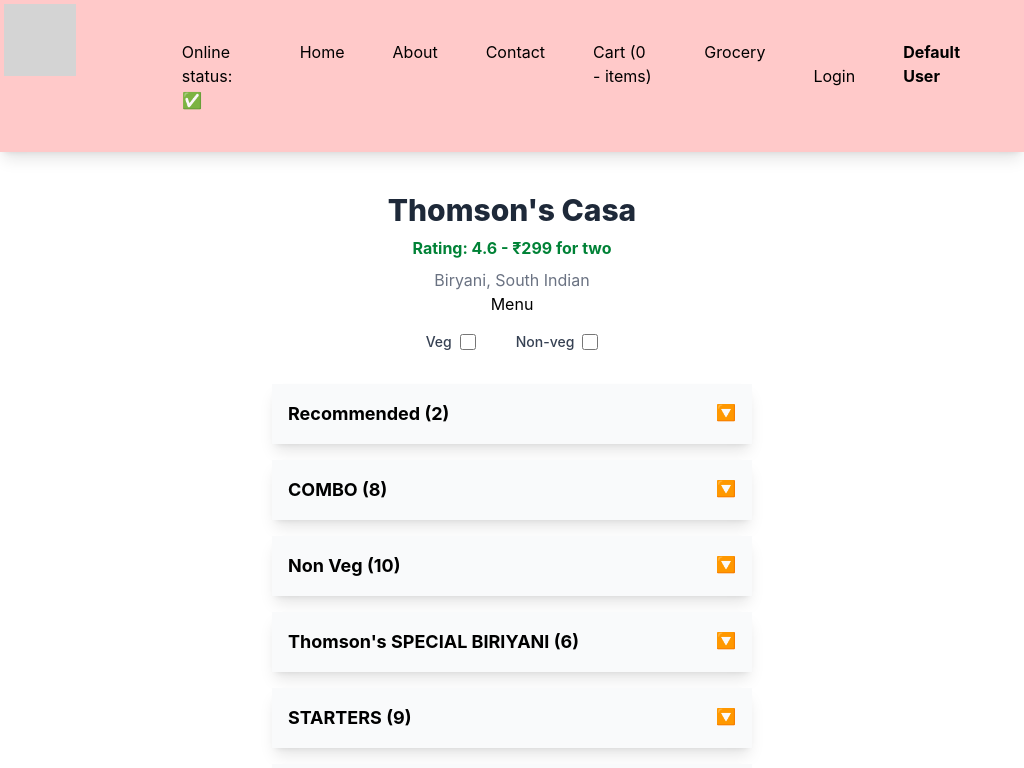
Test: Add & Remove items from Cart - Integration test › Should show cart item number as 2 when 2 items added
Step 1. Click the text "Recommended (2)" → [369, 414], box [288, 400, 449, 428]
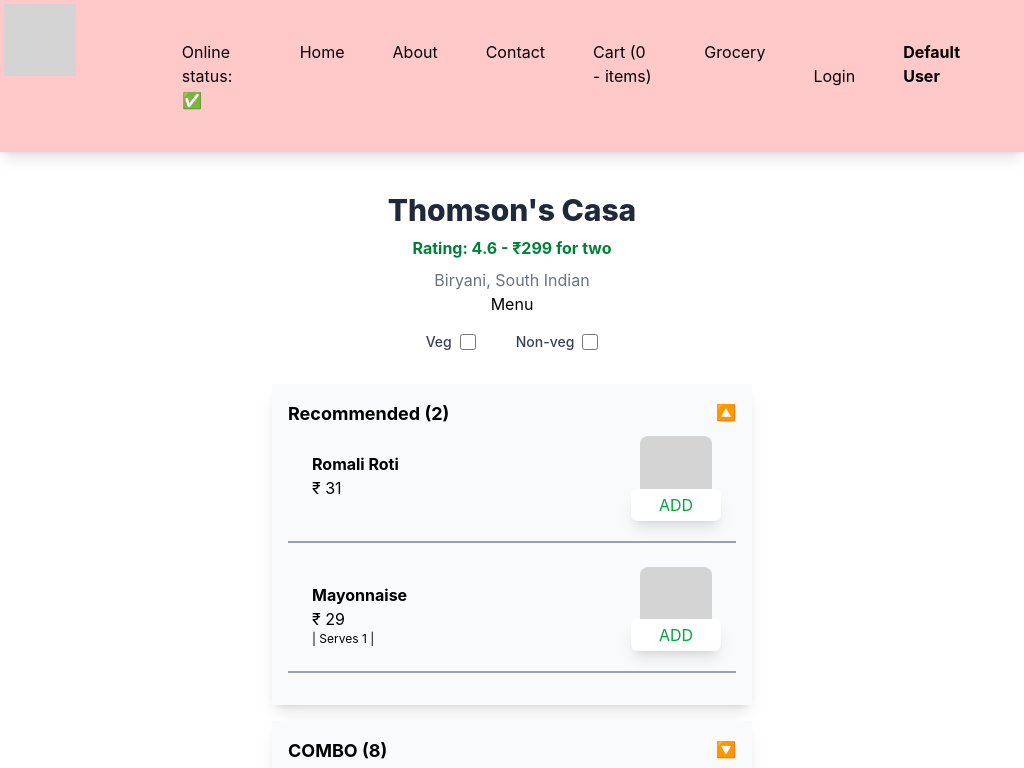
Step 2. Click the button "ADD" in the row of "31" → [676, 505], box [631, 489, 721, 521]
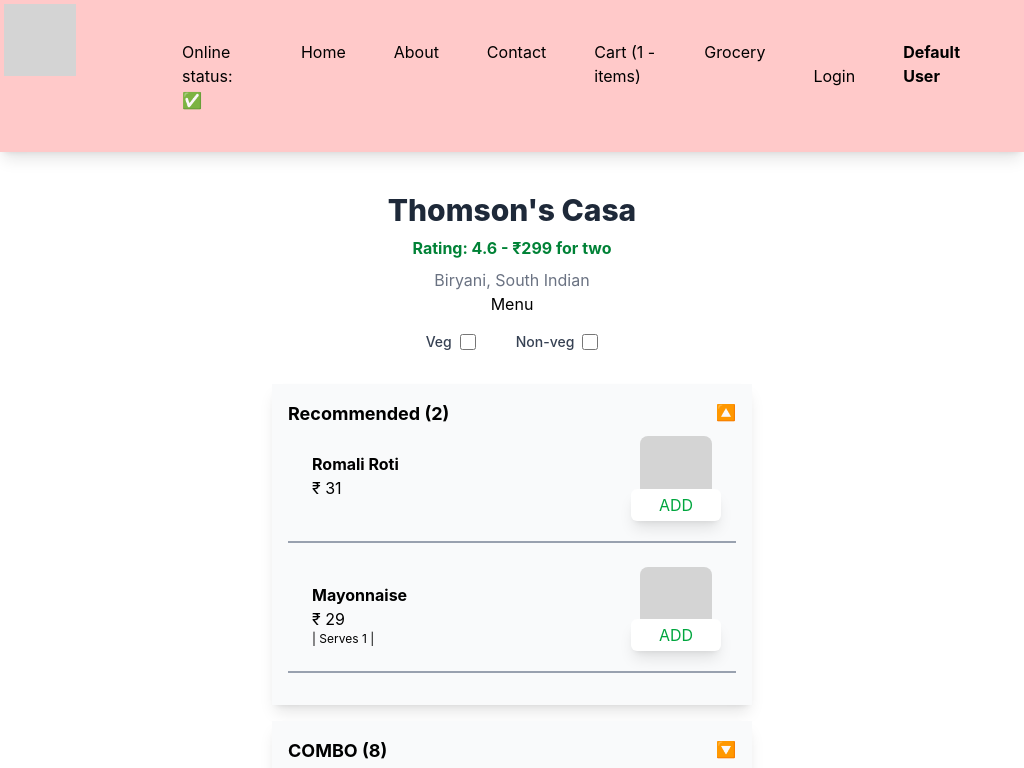
Step 3. Click the button "ADD" in the row of "| Serves 1 |" → [676, 635], box [631, 619, 721, 651]
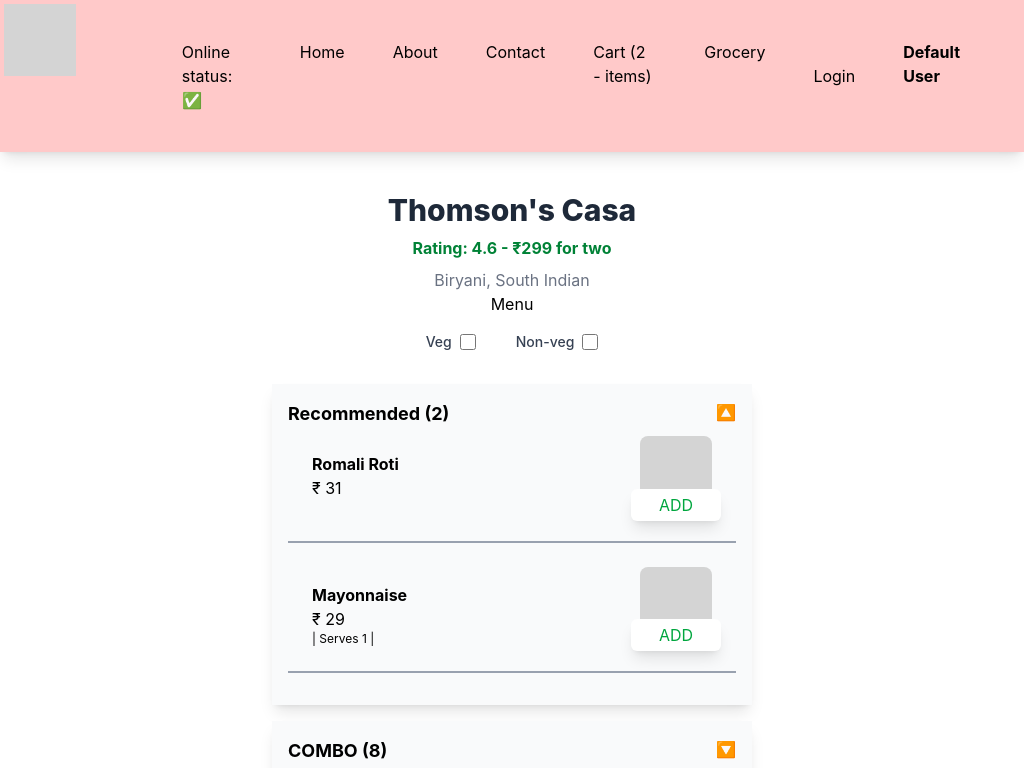
Now the link "Cart (2 - items)" is shown, box [593, 42, 652, 86]
